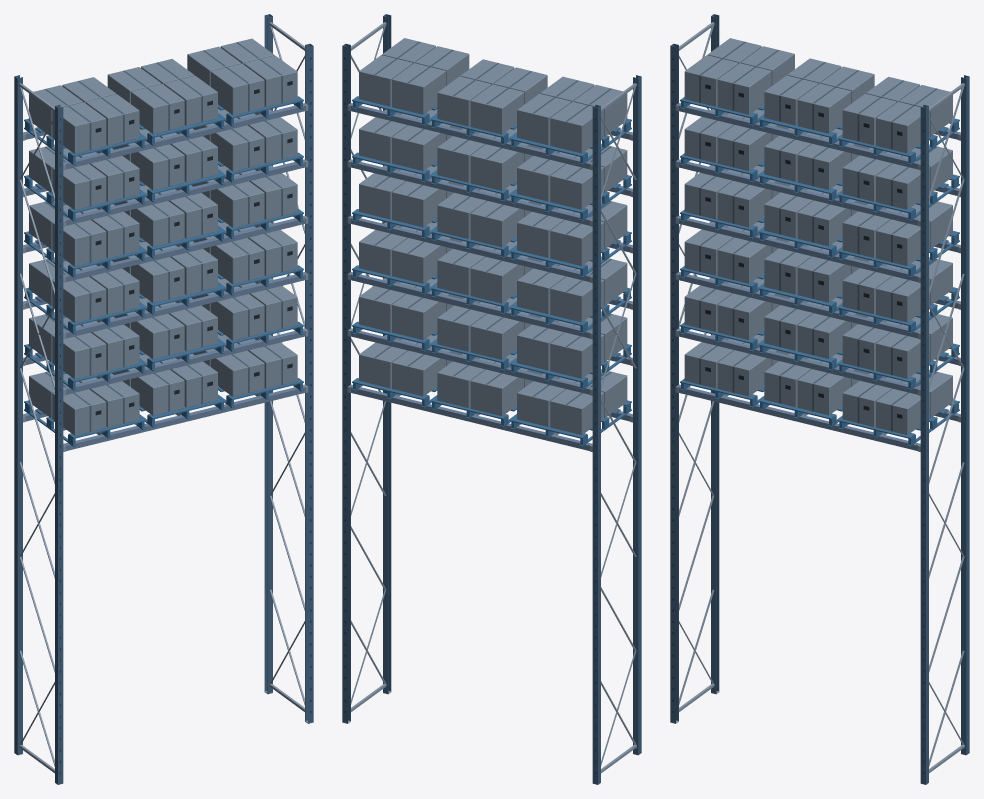
The model's file is SM_GHS_V2Rack_B_Pass_W36176.fbx.
3 views of the same model, side by side, from view 1: azimuth 30°, elevation 25°; view 2: azimuth 150°, elevation 25°; view 3: azimuth 330°, elevation 25° (orthographic).
Parts seen in each view (by area): view 1: SM_GHS_V2Rack_B_Pass_W36176; view 2: SM_GHS_V2Rack_B_Pass_W36176; view 3: SM_GHS_V2Rack_B_Pass_W36176.
Boxes of the visible parts, left/top/right/bottom form: SM_GHS_V2Rack_B_Pass_W36176: left=14, top=14, right=313, bottom=784; SM_GHS_V2Rack_B_Pass_W36176: left=342, top=14, right=641, bottom=784; SM_GHS_V2Rack_B_Pass_W36176: left=670, top=14, right=969, bottom=784.
Size of the model in its own units: 362 by 122 by 915.
